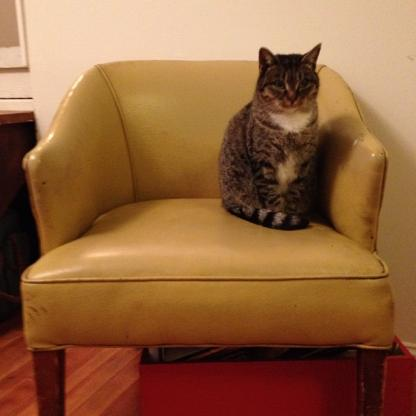Target: (214, 42, 335, 235)
